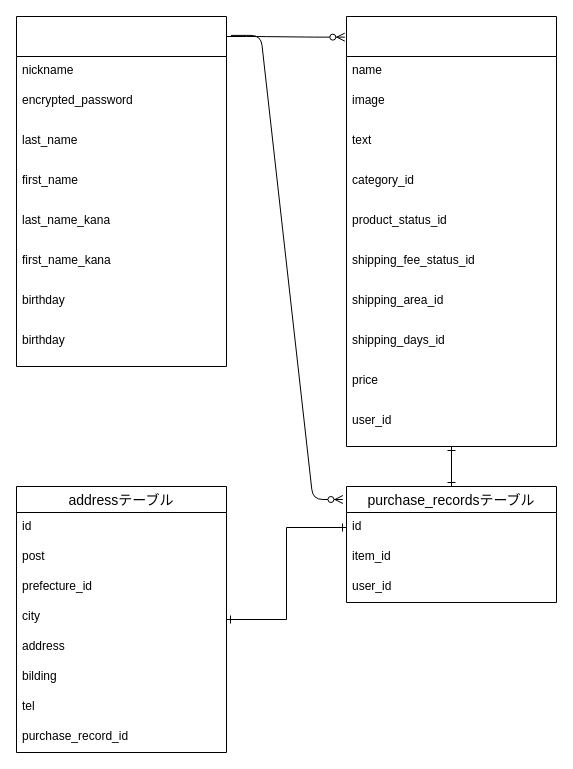
The diagram is 573 pixels wide and 769 high, and some of its shapes have lost their labels. The shapes that lost their labels are listed below. From the top down, each one's box as (x1, y1, x2, y2) in pixels, then its label:
(16, 16, 226, 366): usersテーブル
(346, 16, 556, 446): itemsテーブル
